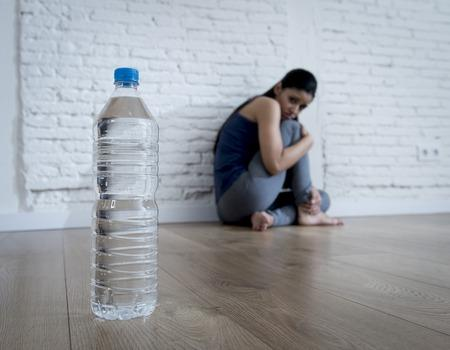bottle: (86, 61, 164, 330)
